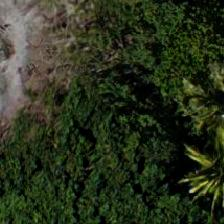Kelapa_Sawit: (171, 144, 223, 223)
